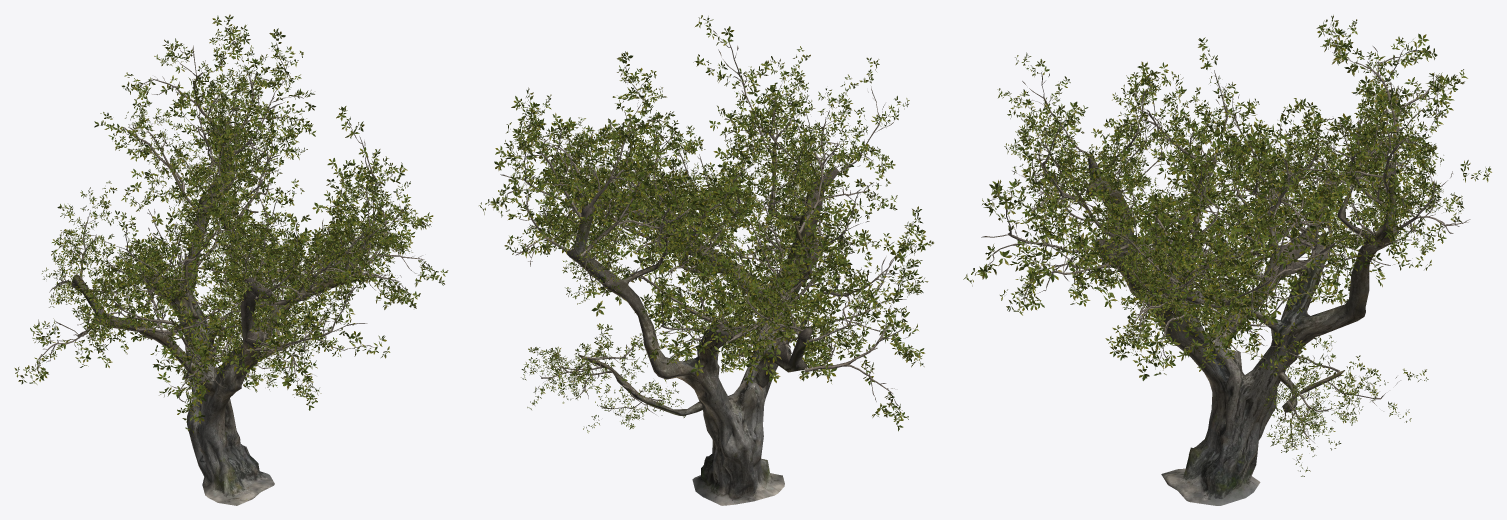
File: island_tree_01.glb
The picture shows the model from 3 angles, left to right: view 1: azimuth 30°, elevation 25°; view 2: azimuth 150°, elevation 25°; view 3: azimuth 270°, elevation 25°; orthographic projection. The views are drawn at different scales.
Parts seen in each view (by area): view 1: island_tree_01_LOD0; view 2: island_tree_01_LOD0; view 3: island_tree_01_LOD0.
Boxes of the visible parts, box(x1,y1,x2,y2) form: island_tree_01_LOD0: box(14, 14, 448, 505); island_tree_01_LOD0: box(479, 15, 933, 505); island_tree_01_LOD0: box(963, 15, 1491, 505).
Size of the model in its own units: 4.75 by 5.02 by 4.82.
3 materials, 3 textured.
